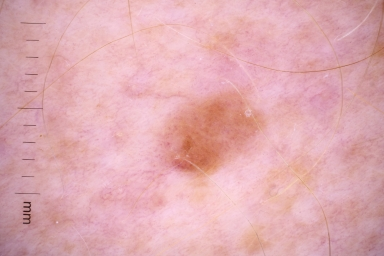melanoma: (162, 94, 262, 173)
